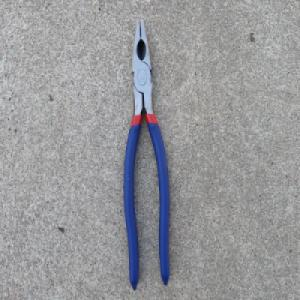Pliers: (122, 17, 171, 295)
